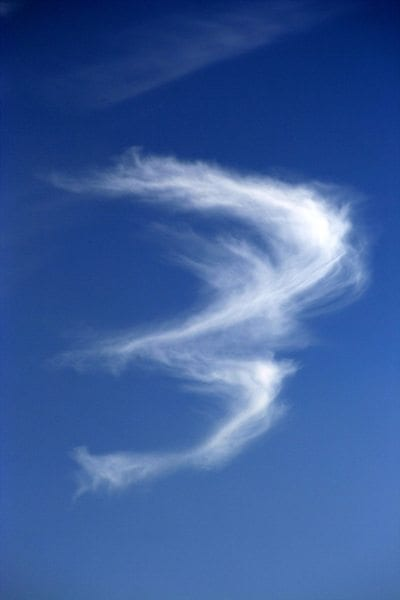Cirrus: (43, 107, 385, 352), (83, 320, 299, 508)
